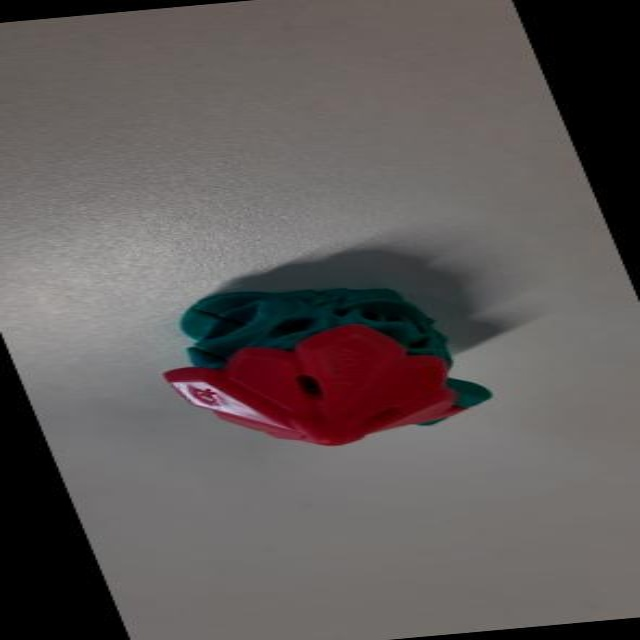House: (114, 256, 517, 462)
